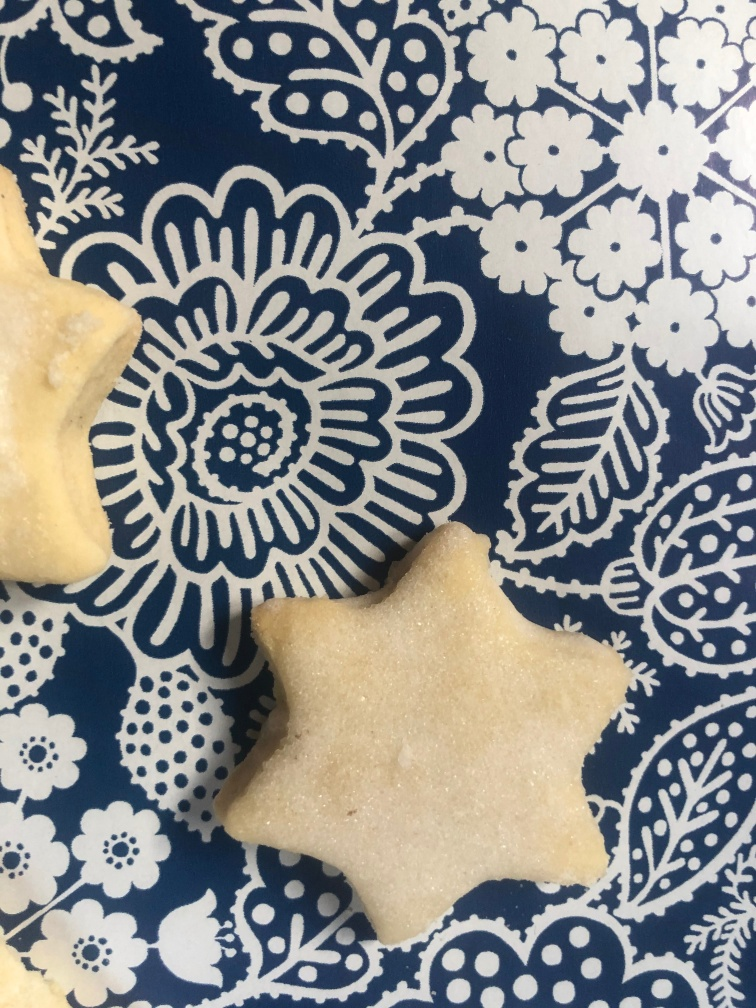star: (208, 505, 643, 951), (1, 162, 145, 610)
